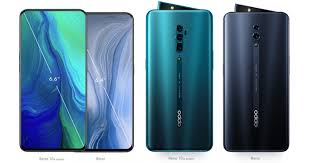oppo: (144, 8, 213, 156), (221, 9, 290, 157)
